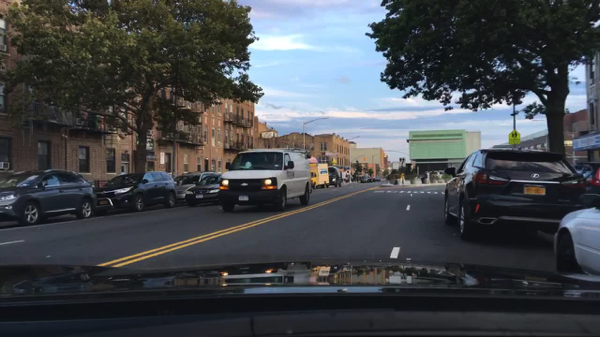car: (441, 148, 586, 243), (0, 169, 97, 226), (552, 192, 600, 279), (94, 171, 177, 215), (571, 161, 600, 211), (186, 176, 227, 207), (174, 172, 201, 202), (328, 165, 343, 187), (359, 176, 367, 183), (372, 176, 380, 182), (367, 176, 372, 182)
traffic sign: (506, 131, 519, 147), (400, 174, 405, 182)
truck: (217, 150, 312, 213), (309, 161, 331, 190)
